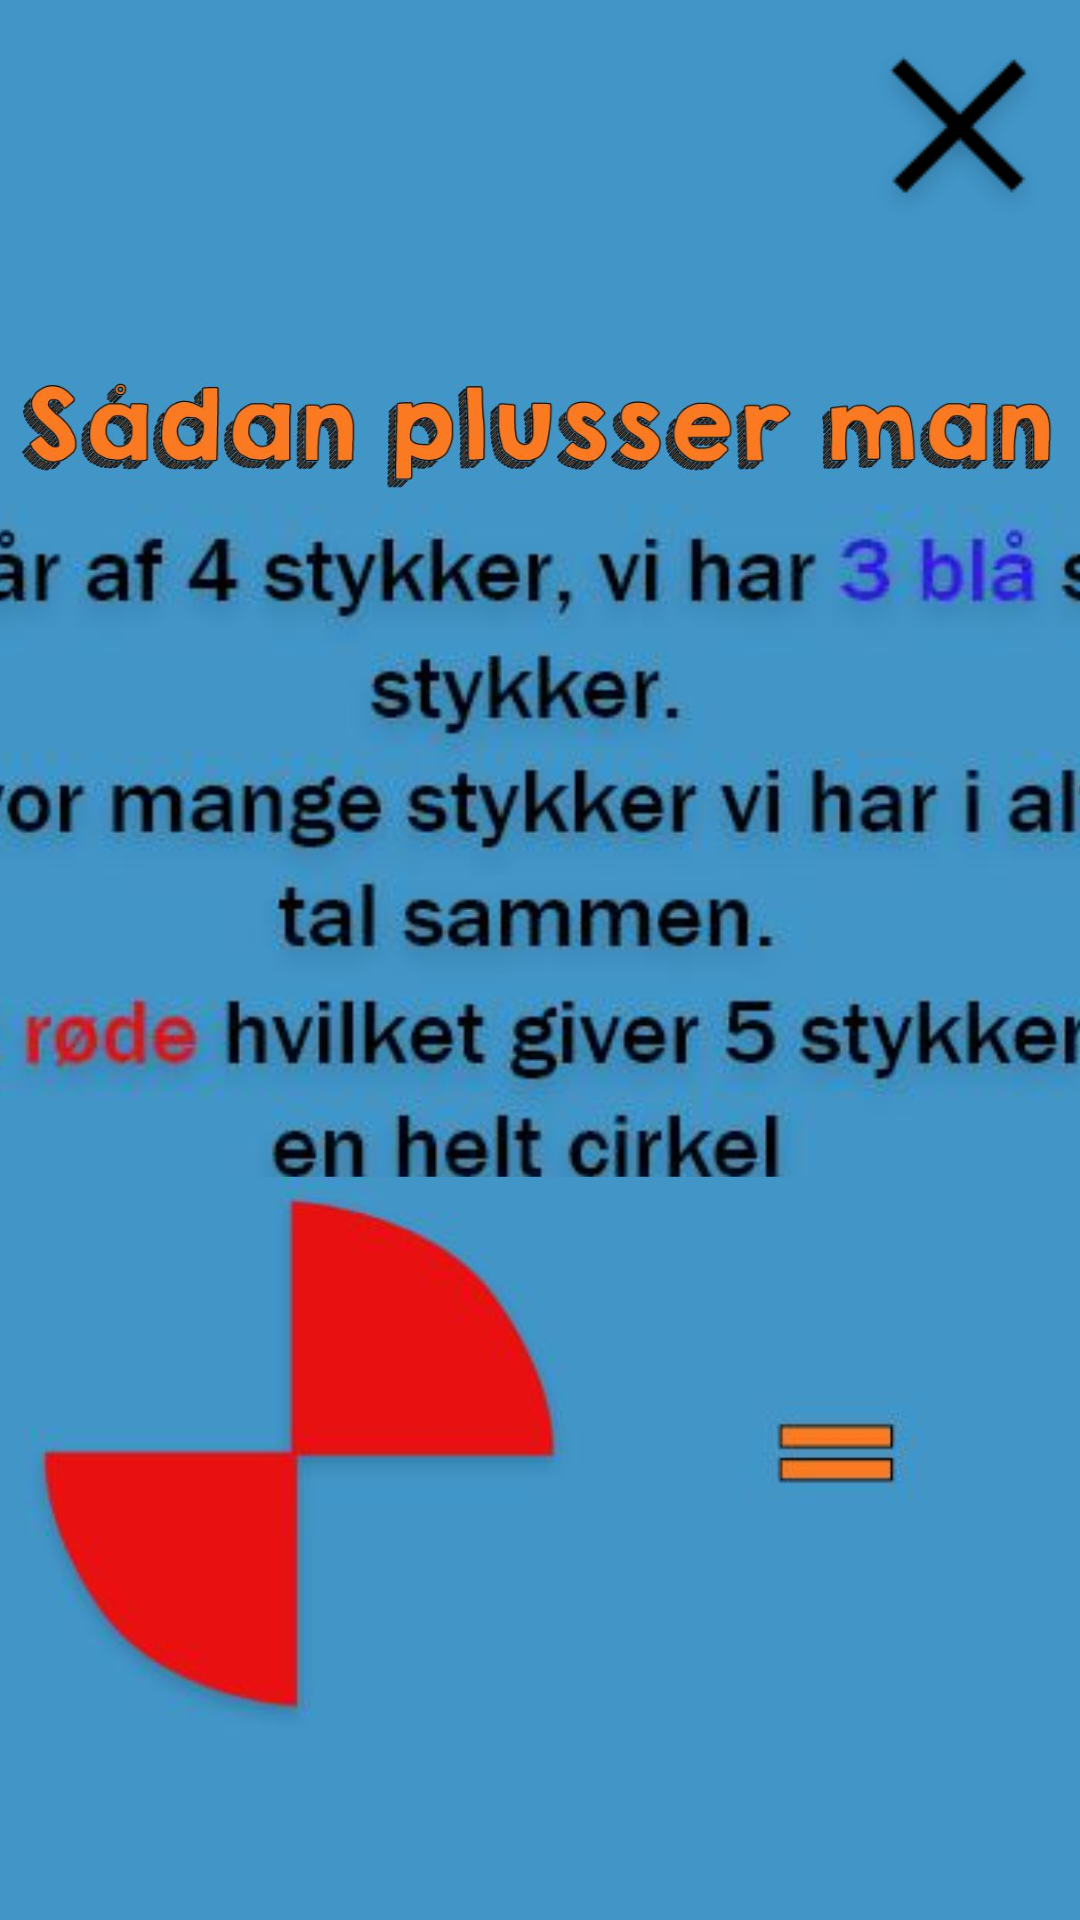

Screen size 1080 x 1920. Icon name, then its center in pixels as (x=x, y=y):
krydsplus: (x=958, y=125)
